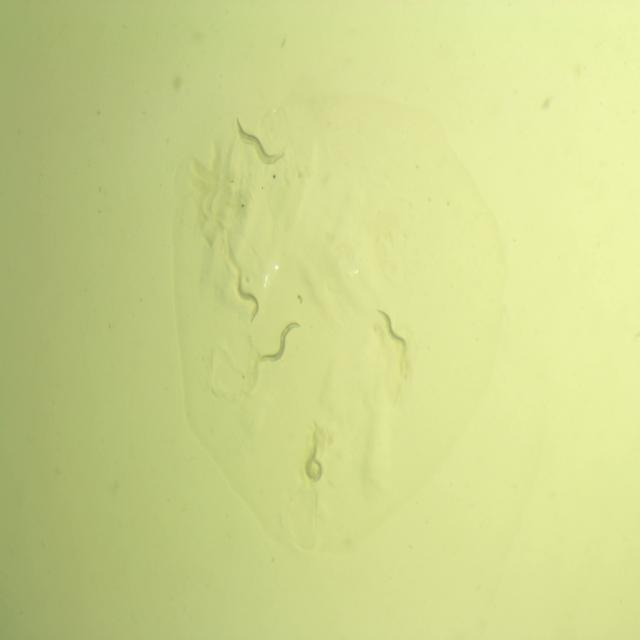worm: (232, 114, 282, 162), (258, 318, 302, 368), (374, 303, 410, 360), (237, 129, 285, 168), (233, 270, 262, 326), (302, 429, 323, 491)
